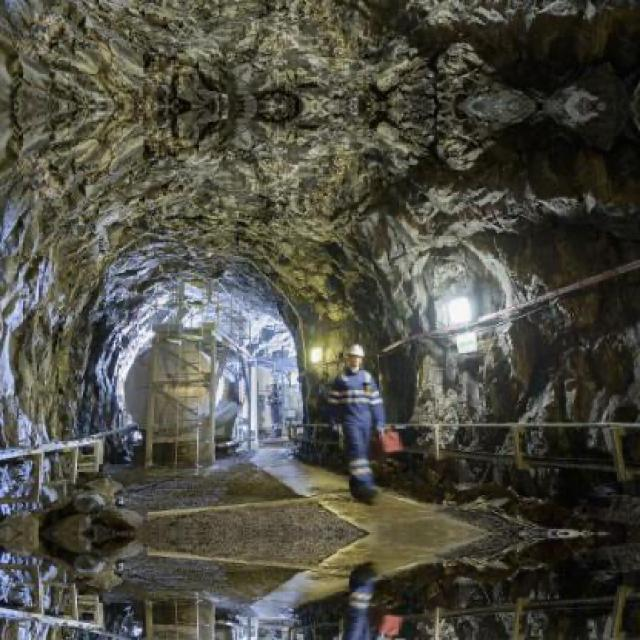helmet: (346, 344, 366, 373)
